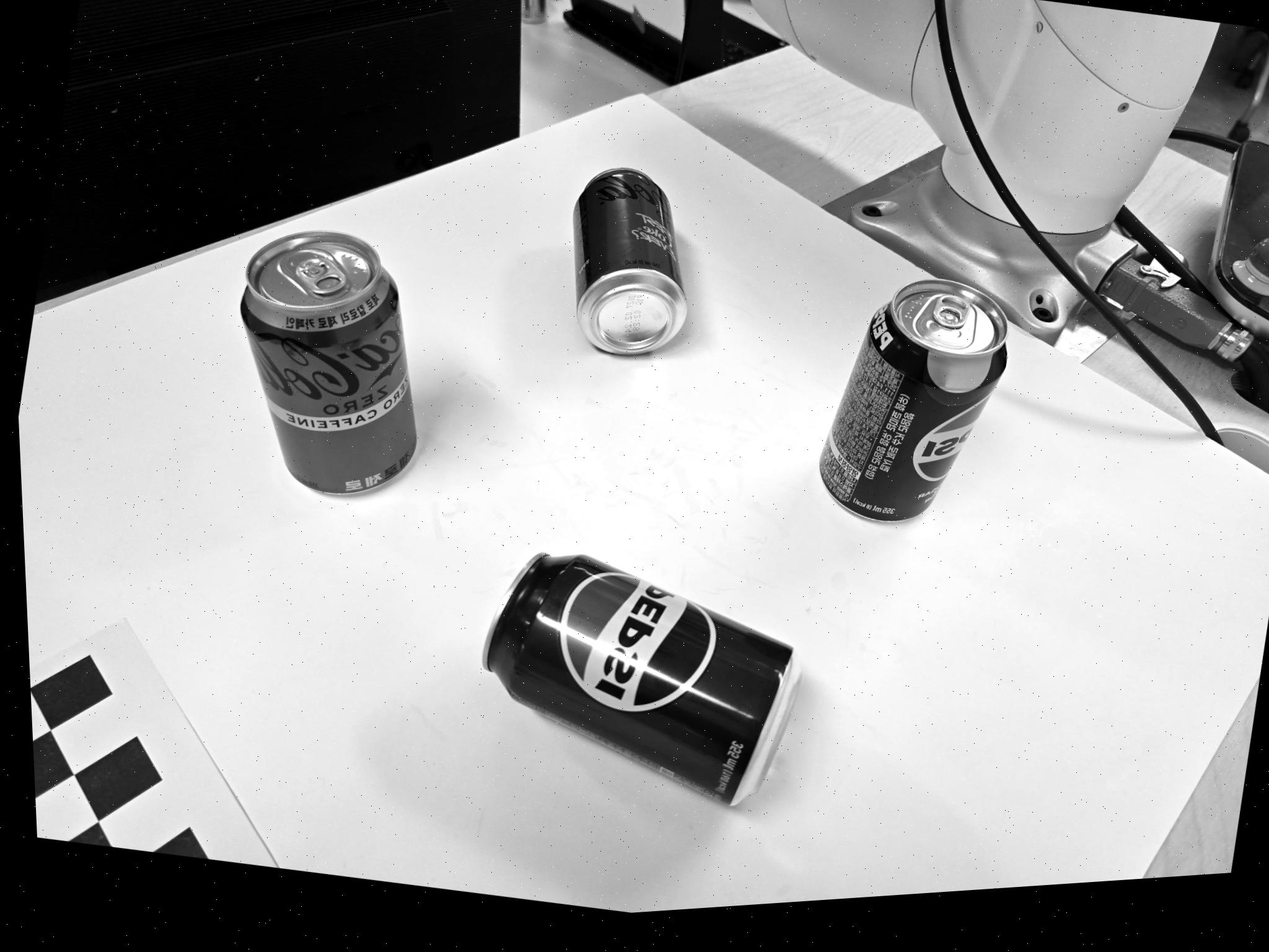can_coke_decaf: (240, 230, 416, 494)
can_coke_zero: (573, 168, 687, 355)
can_pepsi: (482, 554, 795, 803)
can_pepsi_zero: (820, 279, 1007, 522)
